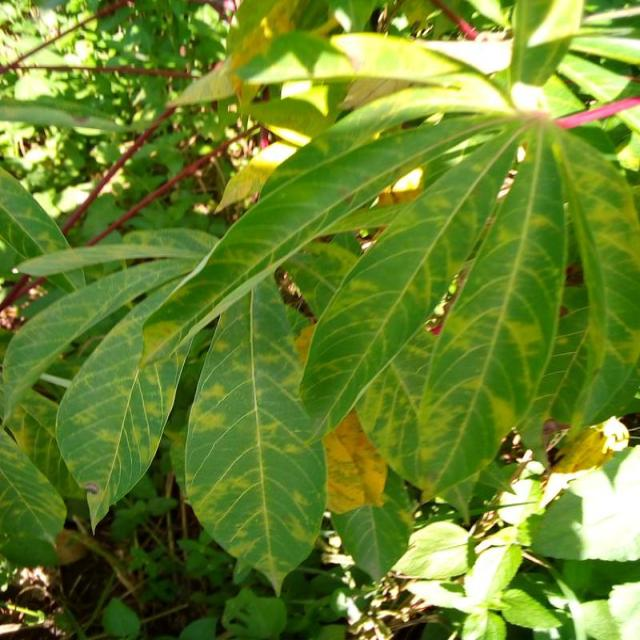cassava leaf: (2, 2, 638, 602), (183, 263, 328, 596)
